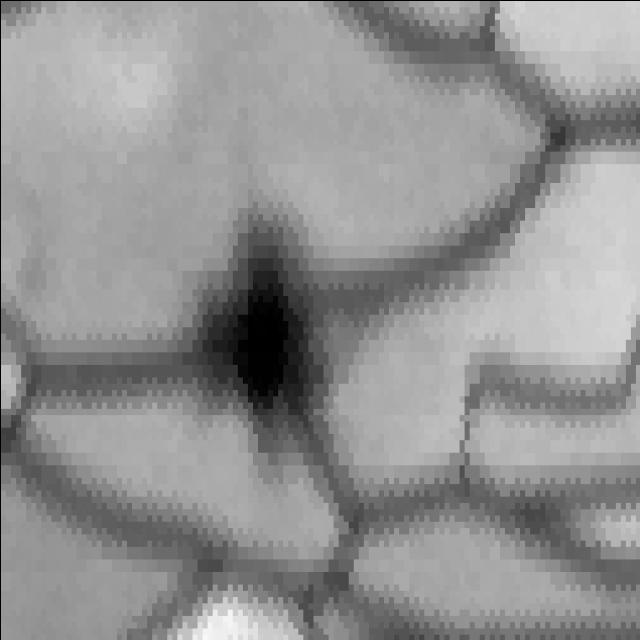good_void: (183, 188, 348, 468)
